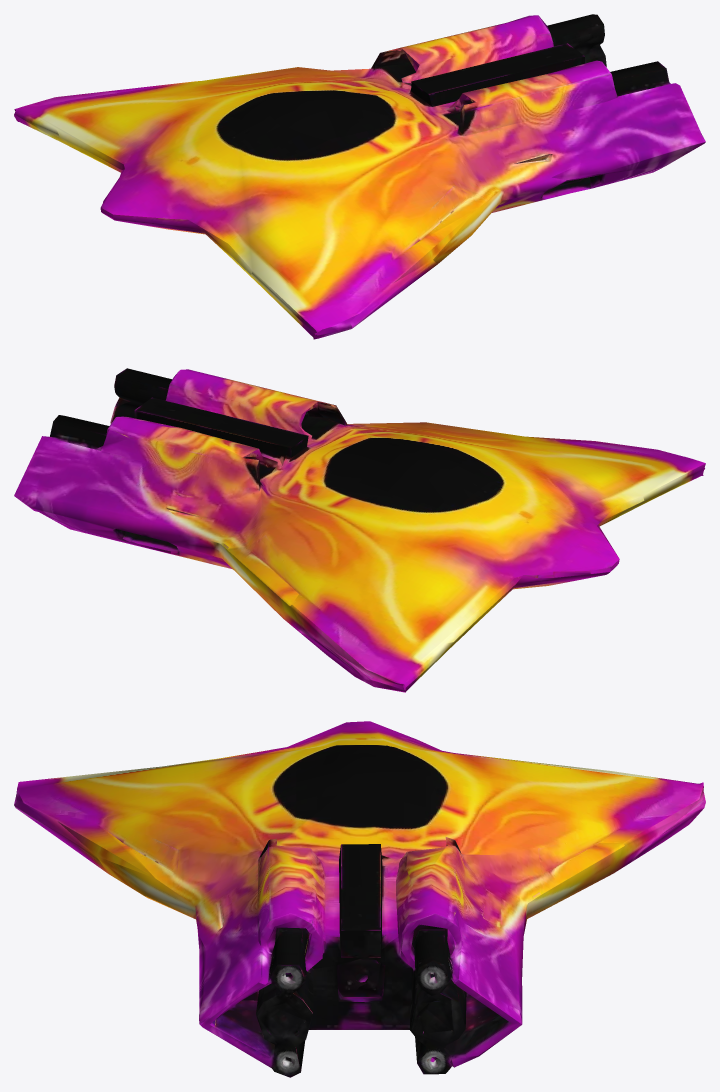
The model's file is mantaray.glb.
3 renders of one model, top to bottom at view 1: azimuth 30°, elevation 25°; view 2: azimuth 150°, elevation 25°; view 3: azimuth 270°, elevation 25°, orthographic. The views are drawn at different scales.
Parts seen in each view (by area): view 1: Mesh0; view 2: Mesh0; view 3: Mesh0.
Boxes of the visible parts, x1,y1,x2,y2 form: Mesh0: [14, 14, 705, 339]; Mesh0: [14, 368, 705, 692]; Mesh0: [14, 721, 705, 1077].
Size of the model in its own units: 1.91 by 0.5857 by 1.9.
1 material, 1 textured.
